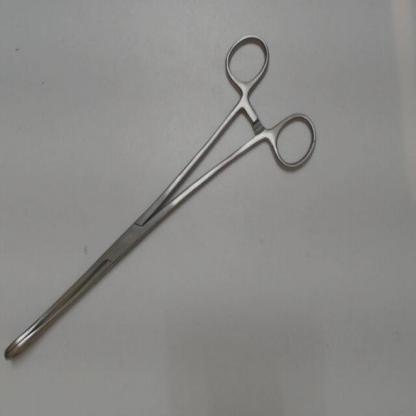Sponge Forceps: (0, 29, 328, 368)
